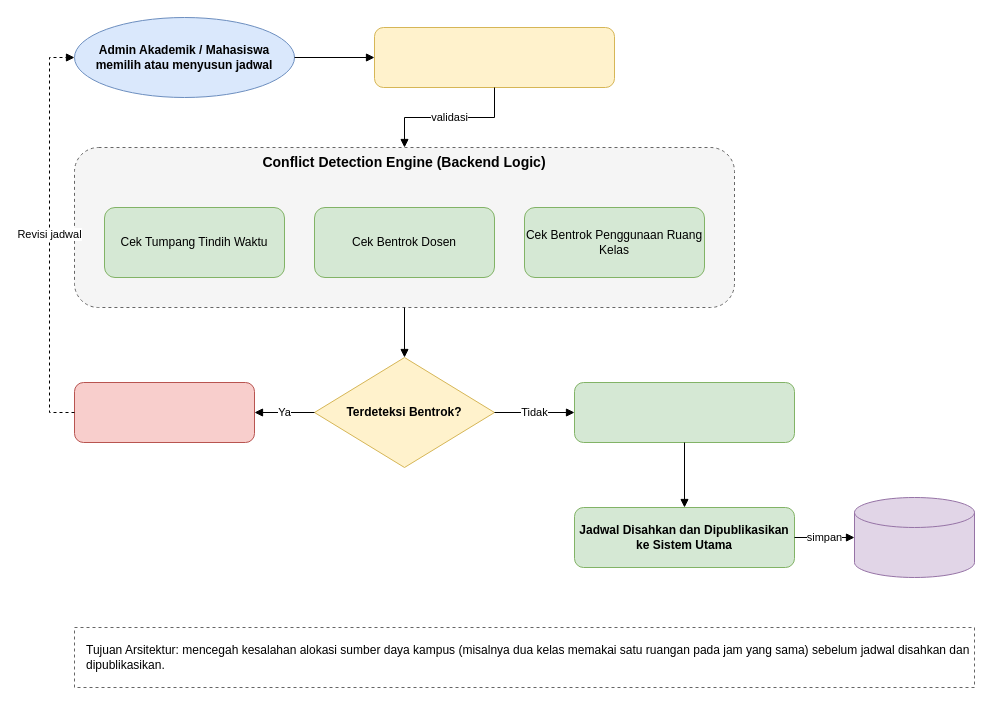
The diagram is 992 pixels wide and 705 high, and some of its shapes have lost their labels. The shapes that lost their labels are listed below. From the top down, each one's centre as x and y in pixels, then its label:
pixel 494 57: Input Data Jadwal: waktu, dosen, ruangan
pixel 164 412: Peringatan Visual: warna merah atau popup warning
pixel 684 412: Matriks Ketersediaan Ruangan: kunci (lock) slot ruangan
pixel 914 537: Database Jadwal
